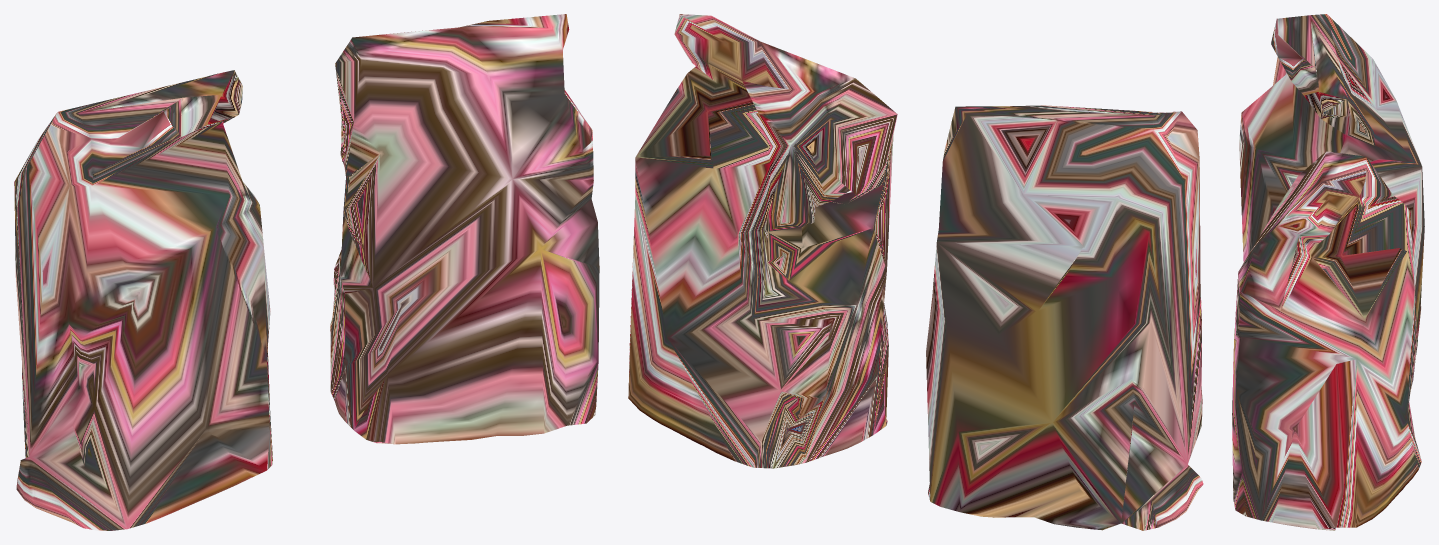
Rendered from king_arthur_flour_optimised.glb.
The picture shows the model from 3 angles, left to right: view 1: azimuth 30°, elevation 25°; view 2: azimuth 150°, elevation 25°; view 3: azimuth 270°, elevation 25°; orthographic projection. The views are drawn at different scales.
Visible parts, largest first — view 1: Object_2; view 2: Object_2; view 3: Object_2.
Boxes of the visible parts, <box> form: Object_2: <box>14,14,599,530</box>; Object_2: <box>628,14,1203,530</box>; Object_2: <box>1232,14,1424,530</box>.
Size of the model in its own units: 0.359 by 0.2402 by 0.1337.
Materials: 1 (1 with a texture image).
